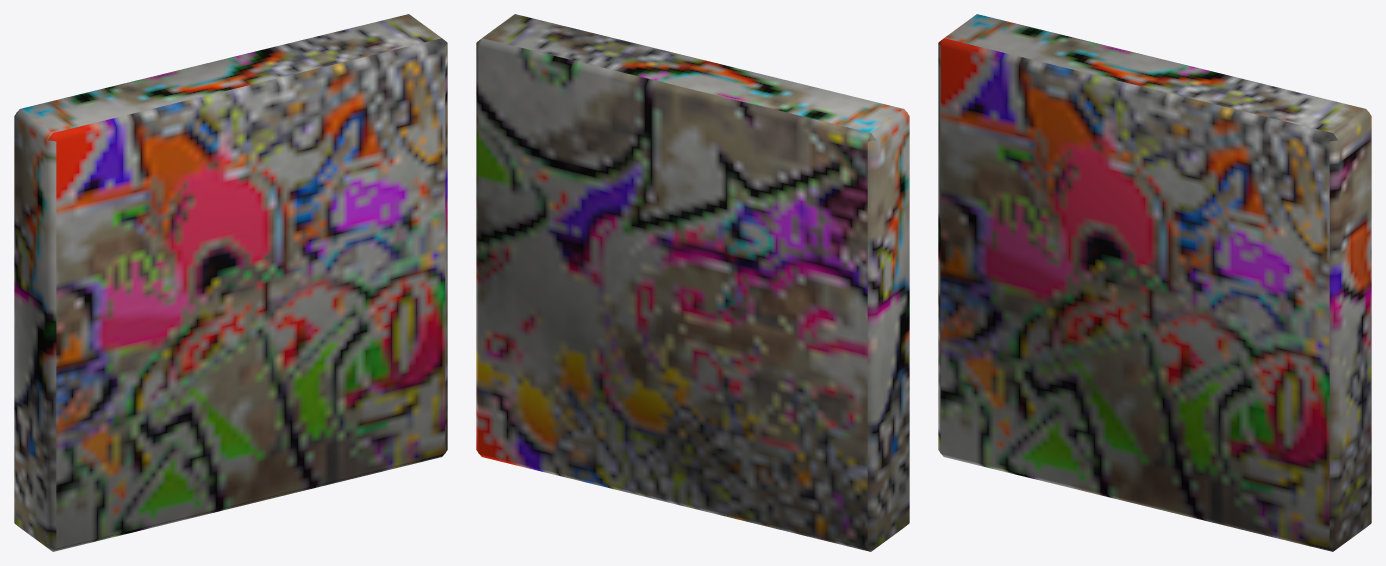
Rendered from Wall.fbx.
The picture shows the model from 3 angles, left to right: view 1: azimuth 30°, elevation 25°; view 2: azimuth 150°, elevation 25°; view 3: azimuth 330°, elevation 25°; orthographic projection.
Parts seen in each view (by area): view 1: Cube.005; view 2: Cube.005; view 3: Cube.005.
Part boxes in pixels (left/top/right/bottom): Cube.005: left=14, top=14, right=447, bottom=551; Cube.005: left=476, top=14, right=909, bottom=551; Cube.005: left=938, top=14, right=1371, bottom=551.
Bounding box in the file's own units: 300 × 300 × 51.3.
